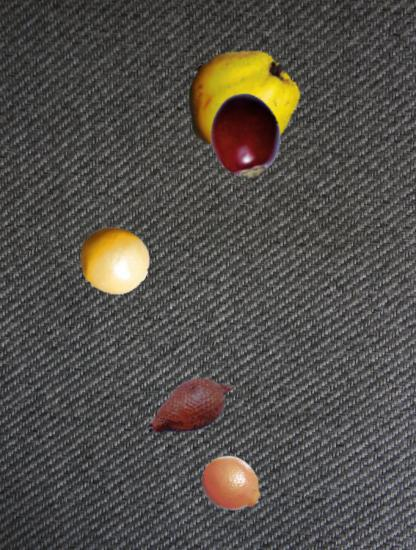Grapefruit: (79, 225, 150, 296)
Quince: (182, 43, 298, 159)
Salak: (143, 358, 240, 455)
Tamarillo: (202, 93, 291, 182)
Tangelo: (201, 453, 264, 516)
